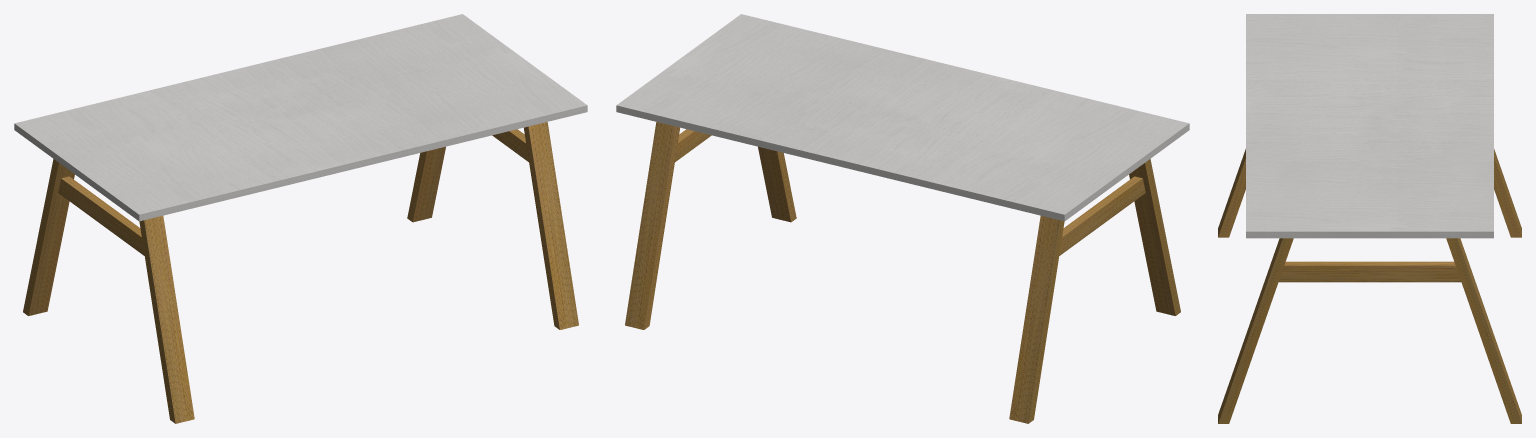
The model's file is Bord.fbx.
3 renders of one model, left to right at view 1: azimuth 30°, elevation 25°; view 2: azimuth 150°, elevation 25°; view 3: azimuth 270°, elevation 25°, orthographic.
Visible parts, largest first — view 1: pCube10; view 2: pCube10; view 3: pCube10.
Boxes of the visible parts, box(x1,y1,x2,y2) form: pCube10: box(14, 14, 587, 423); pCube10: box(616, 14, 1189, 423); pCube10: box(1218, 14, 1521, 423).
Size of the model in its own units: 1.4 by 0.61 by 0.826.
2 materials, 2 textured.
